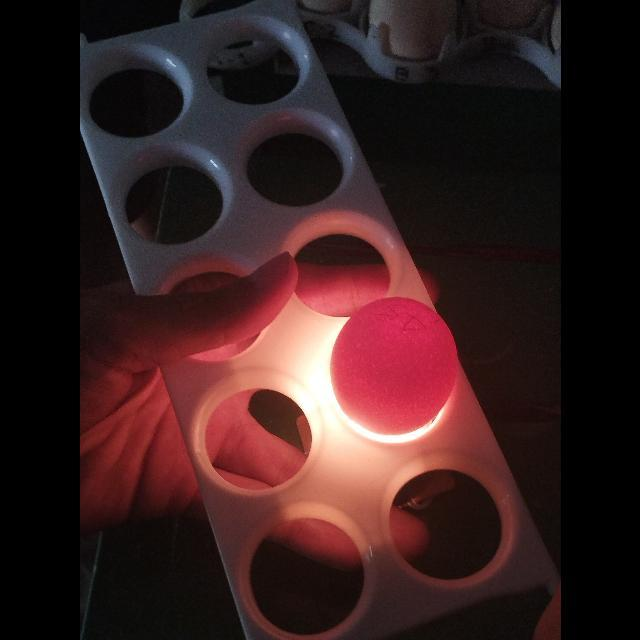Fertile: (331, 297, 462, 427)
